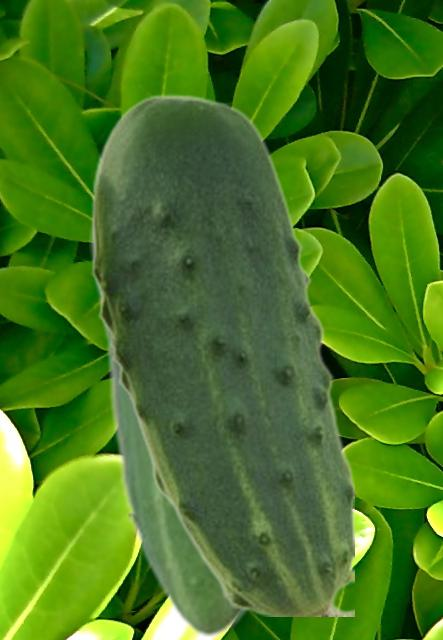cucumber: (91, 93, 353, 615), (89, 205, 250, 638)
